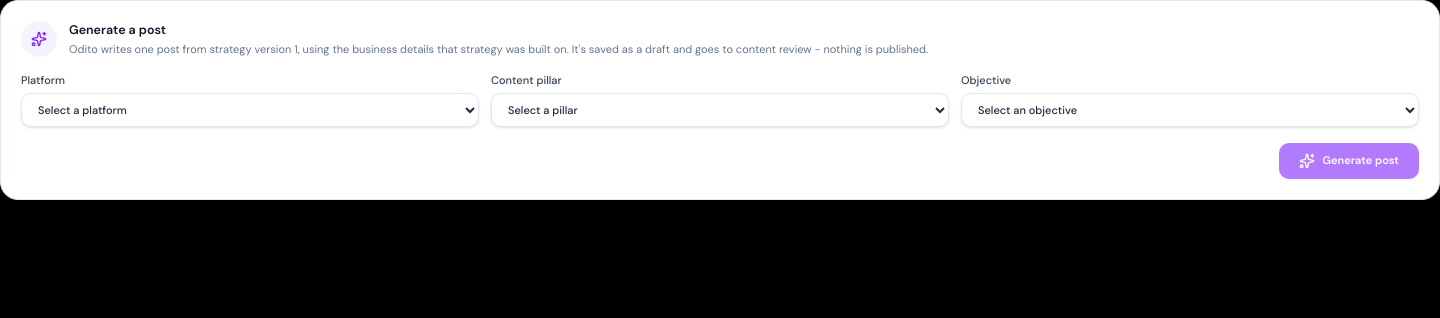
Test: Single-post generator - failures are the server's, never faked › a failed generation shows the backend's safe message, no draft, and lets the user try again
Expected: the button with test id "generate-post-button" is shown, [1279,143,1419,179]
Select "Facebook" in the dropdown with test id "generator-platform" at (250, 110), box [21,93,479,127]
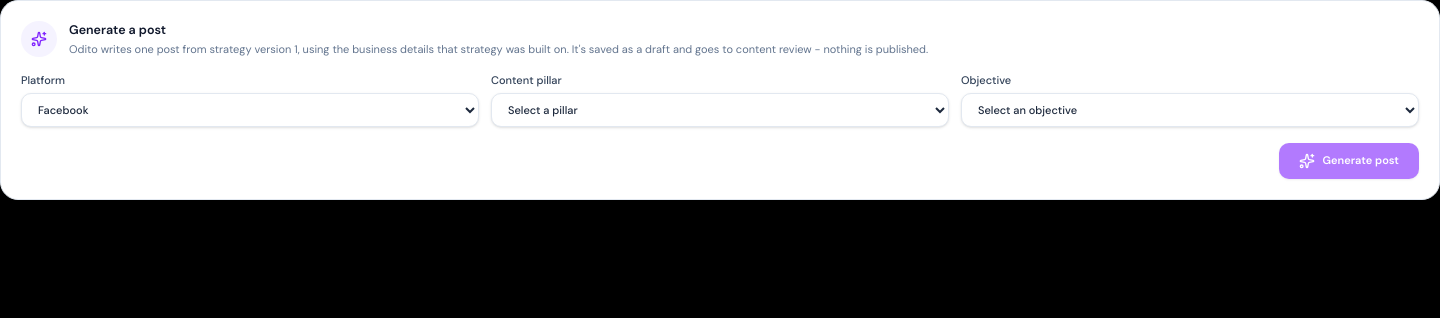
Select "Dental tips" in the dropdown with test id "generator-pillar" at (720, 110), box [491,93,949,127]
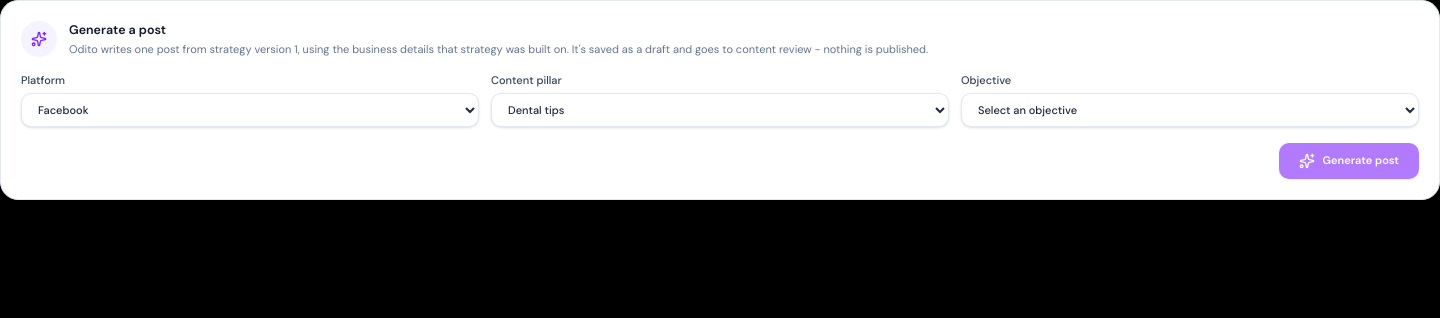
Select "Educational" in the dropdown with test id "generator-objective" at (1190, 110), box [961,93,1419,127]
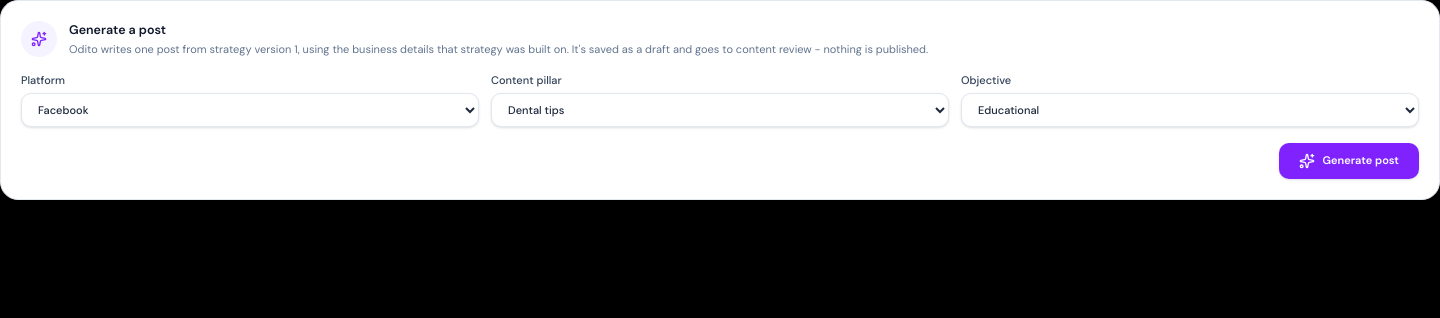
Click the button with test id "generate-post-button" at (1349, 161), box [1279,143,1419,179]
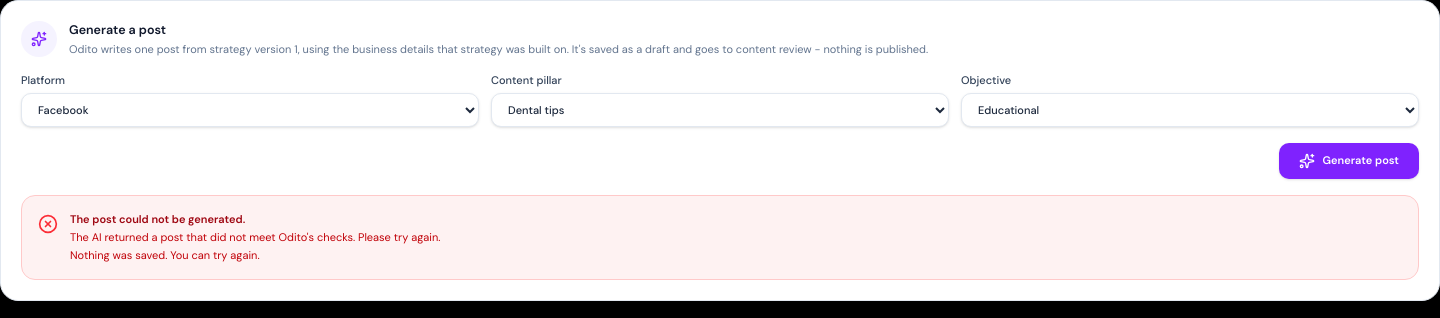
Expected: the button with test id "generate-post-button" is enabled, [1279,143,1419,179]
Expected: the text with test id "generator-failed-message" shows "did not meet Odito", [70,230,440,244]
Expected: the message with test id "generator-failed" shows "Nothing was saved", [70,248,260,262]
